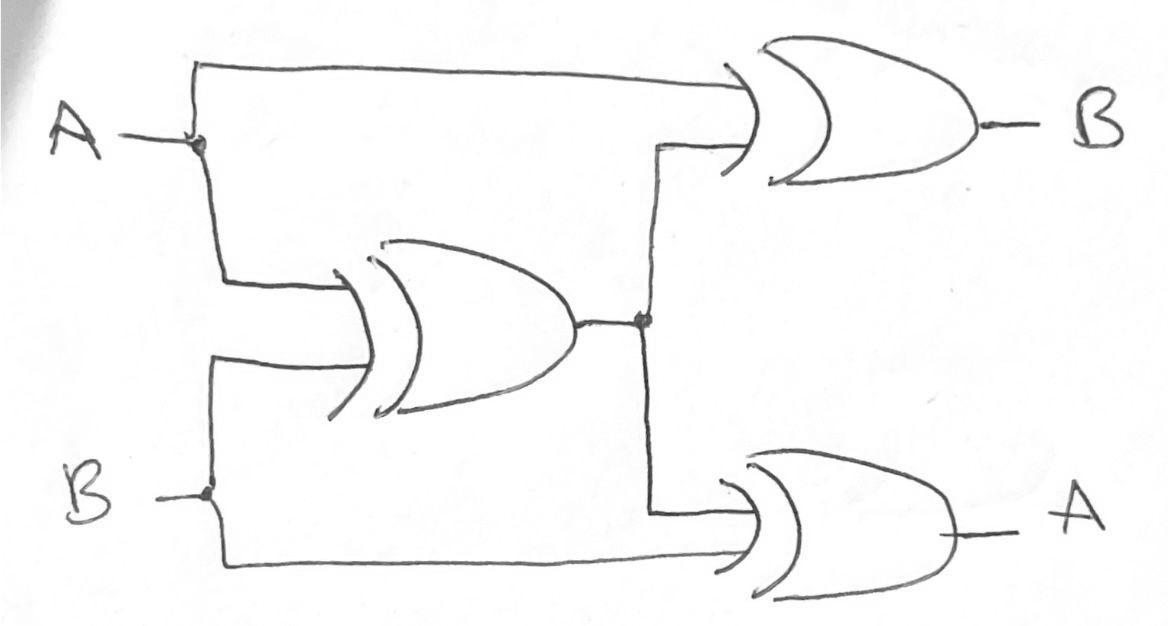XOR: (302, 206, 593, 437), (706, 11, 998, 227), (700, 404, 983, 614)
